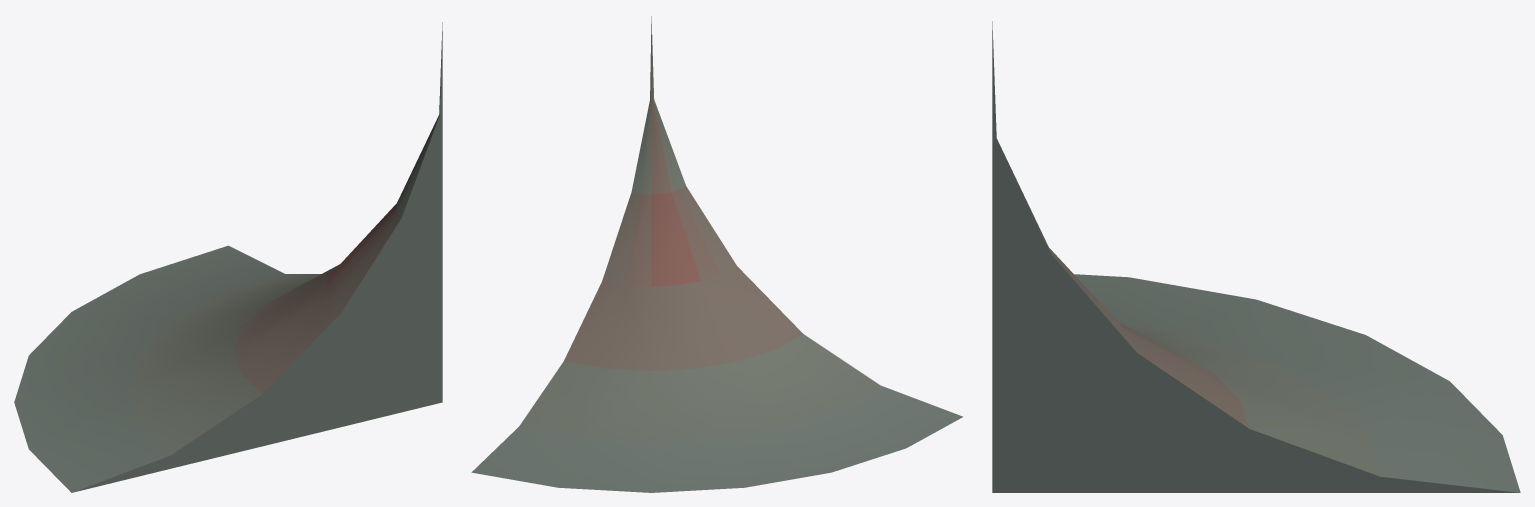
Rendered from Halfpipe_half_bend_out.fbx.
3 renders of one model, left to right at view 1: azimuth 30°, elevation 25°; view 2: azimuth 150°, elevation 25°; view 3: azimuth 270°, elevation 25°, orthographic. The views are drawn at different scales.
Parts seen in each view (by area): view 1: Mesh; view 2: Mesh; view 3: Mesh.
Boxes of the visible parts, <box> form: Mesh: <box>14,22,442,492</box>; Mesh: <box>471,16,963,492</box>; Mesh: <box>992,21,1520,492</box>.
Bounding box in the file's own units: 50 × 50 × 50.
